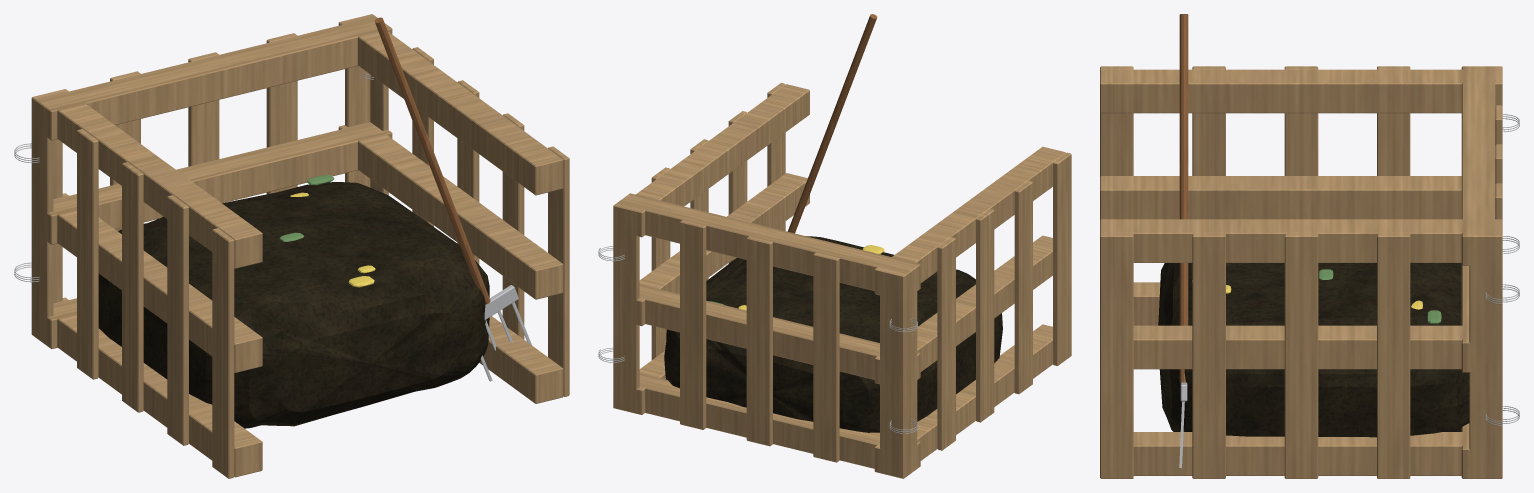
File: composteira.glb
3 renders of one model, left to right at view 1: azimuth 30°, elevation 25°; view 2: azimuth 150°, elevation 25°; view 3: azimuth 270°, elevation 25°, orthographic. The views are drawn at different scales.
Visible parts, largest first — view 1: composteira_madeira_crua, composteira_verde_compostagem, composteira_madeira, composteira_aco; view 2: composteira_madeira_crua, composteira_verde_compostagem, composteira_madeira, composteira_galvanizado; view 3: composteira_madeira_crua, composteira_verde_compostagem, composteira_madeira, composteira_galvanizado.
Part boxes in pixels (x1,y1,x2,y2): composteira_madeira_crua: (31,14,569,478); composteira_verde_compostagem: (98,182,489,428); composteira_madeira: (374,17,490,304); composteira_aco: (480,285,531,381); composteira_madeira_crua: (613,83,1071,478); composteira_verde_compostagem: (664,236,1002,432); composteira_madeira: (787,14,877,233); composteira_galvanizado: (598,246,917,433); composteira_madeira_crua: (1100,66,1502,478); composteira_verde_compostagem: (1158,263,1469,437); composteira_madeira: (1179,14,1188,382); composteira_galvanizado: (1485,114,1519,425).
Bounding box in the file's own units: 1.3 × 1.33 × 1.25.
7 materials, 3 textured.
